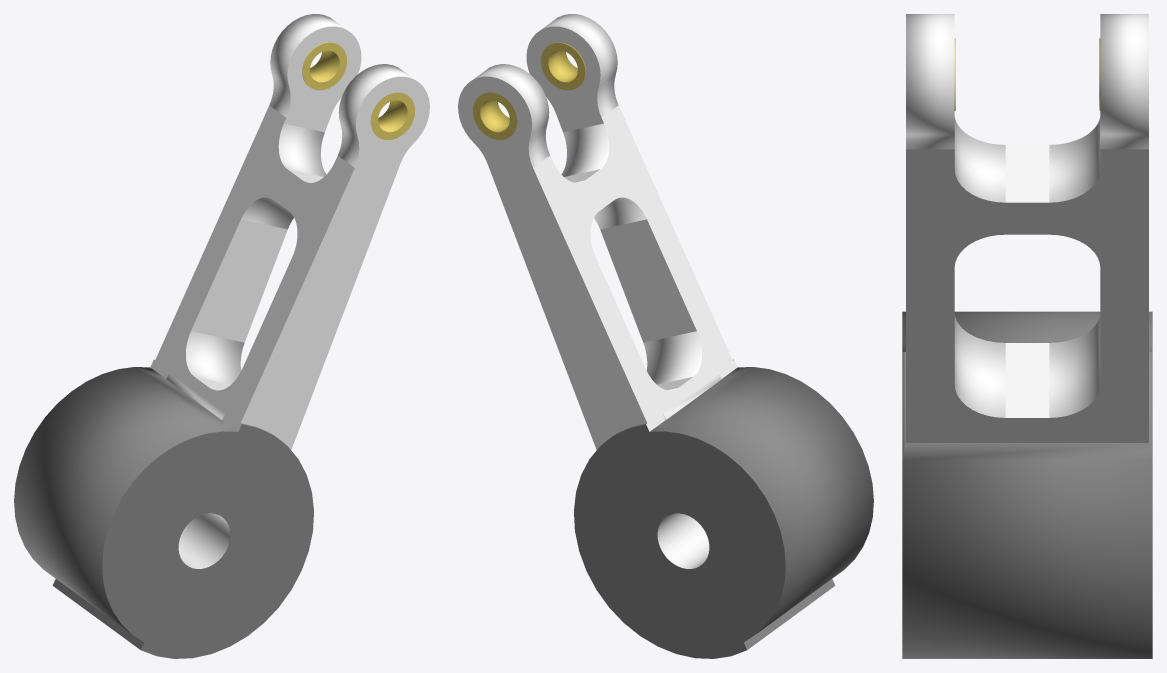
Rendered from rg2_finger_moment_bar.dae.
3 views of the same model, side by side, from view 1: azimuth 30°, elevation 25°; view 2: azimuth 150°, elevation 25°; view 3: azimuth 270°, elevation 25° (orthographic). The views are drawn at different scales.
Visible parts, largest first — view 1: _ncl1_17_001, _ncl1_15_001, _ncl1_10_001, _ncl1_13_001; view 2: _ncl1_17_001, _ncl1_15_001, _ncl1_13_001, _ncl1_10_001; view 3: _ncl1_15_001, _ncl1_17_001.
Part boxes in pixels (x1,y1,x2,y2): _ncl1_17_001: [14, 359, 313, 658]; _ncl1_15_001: [150, 14, 429, 568]; _ncl1_10_001: [302, 42, 346, 90]; _ncl1_13_001: [370, 92, 414, 140]; _ncl1_17_001: [574, 359, 873, 658]; _ncl1_15_001: [458, 14, 737, 568]; _ncl1_13_001: [541, 42, 585, 90]; _ncl1_10_001: [473, 92, 517, 140]; _ncl1_15_001: [906, 14, 1148, 442]; _ncl1_17_001: [902, 311, 1152, 658].
Size of the model in its own units: 0.0444 by 0.0206 by 0.0684.
